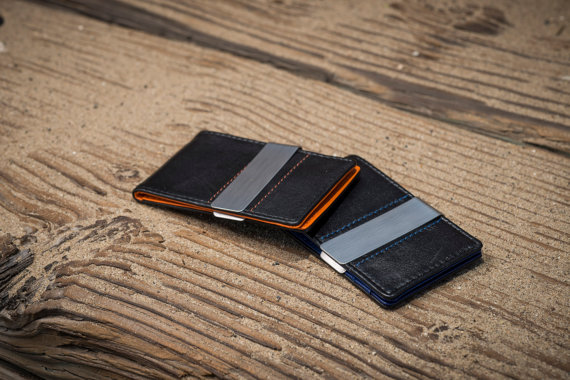monedero: (272, 151, 484, 311), (130, 127, 365, 236)
